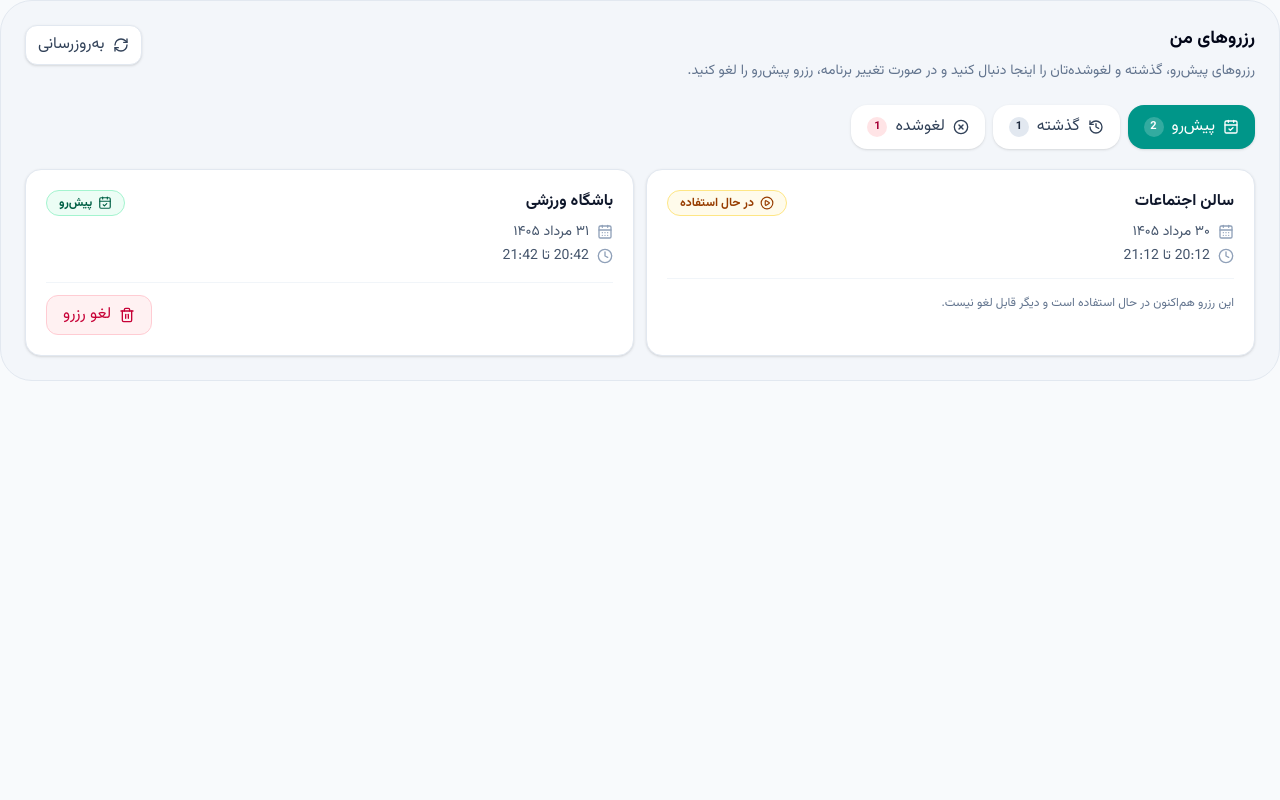
Test: MyReservationsSection › cancels the booking, reports it back and shows a success toast
Click the button with aria-label "لغو رزرو باشگاه ورزشی": (99, 315) 46,295 -> 152,335
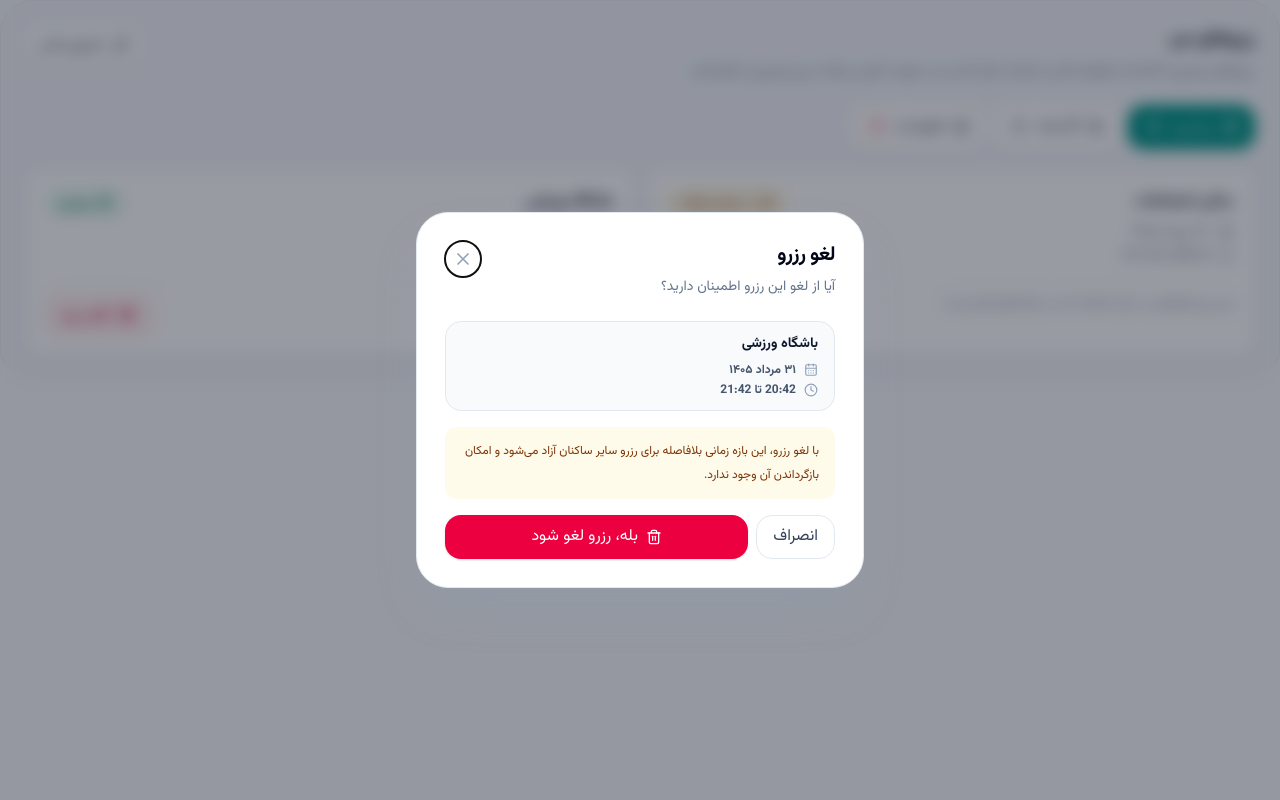
Click the button "بله، رزرو لغو شود": (597, 537) 445,515 -> 748,559
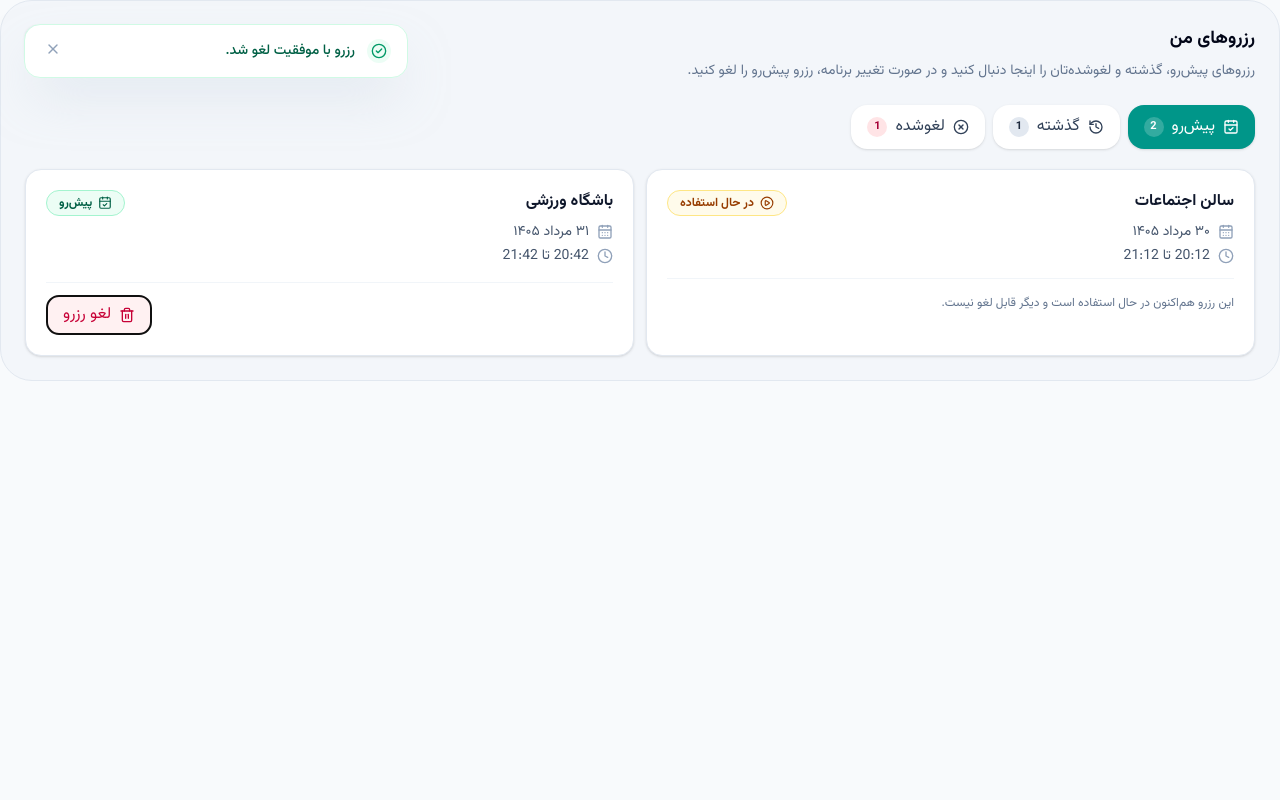
Check: the text "رزرو با موفقیت لغو شد." is shown, box 225,40 -> 355,62
Check: the dialog is gone
